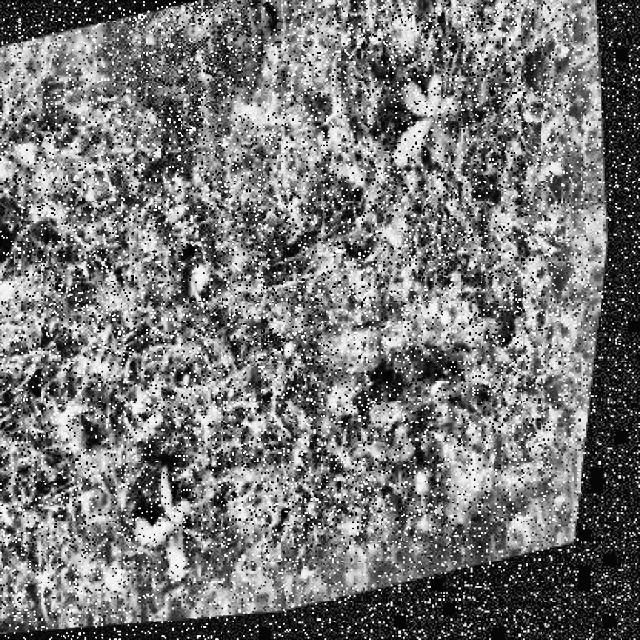Weeds: (127, 462, 221, 596), (382, 72, 476, 188)
